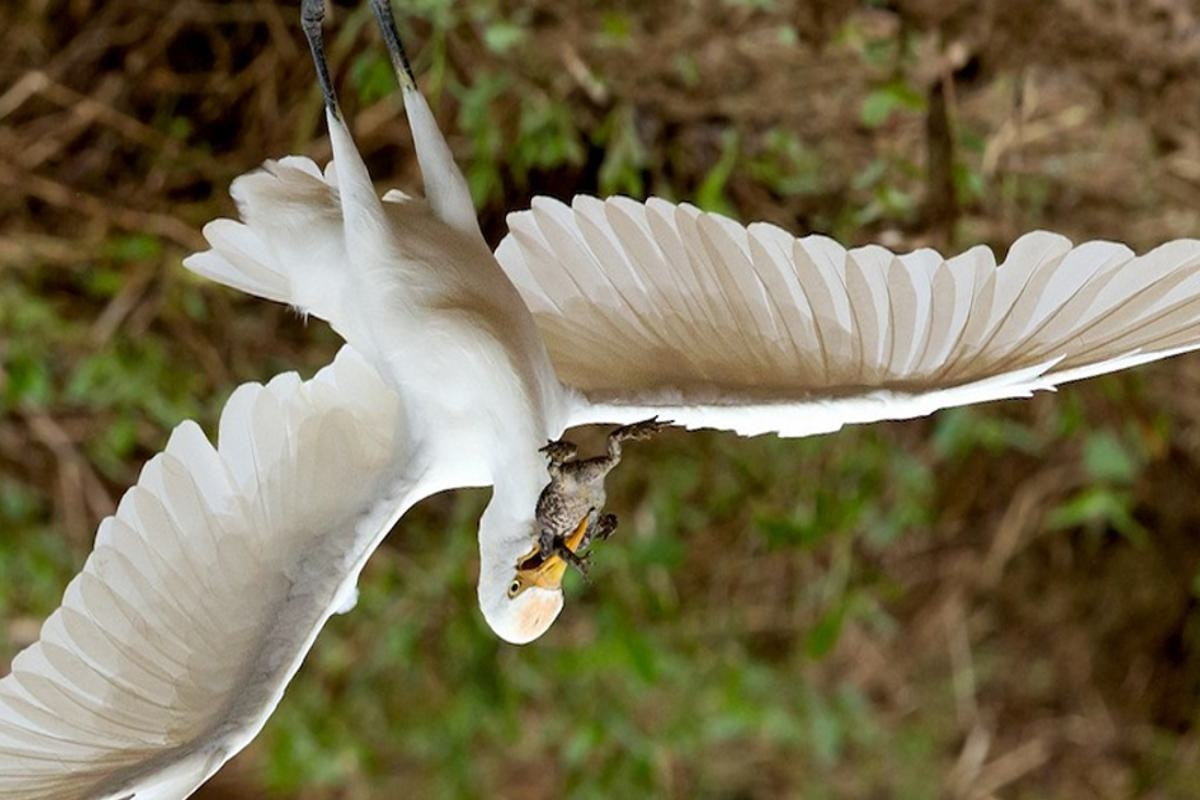egret: (17, 97, 1200, 791)
